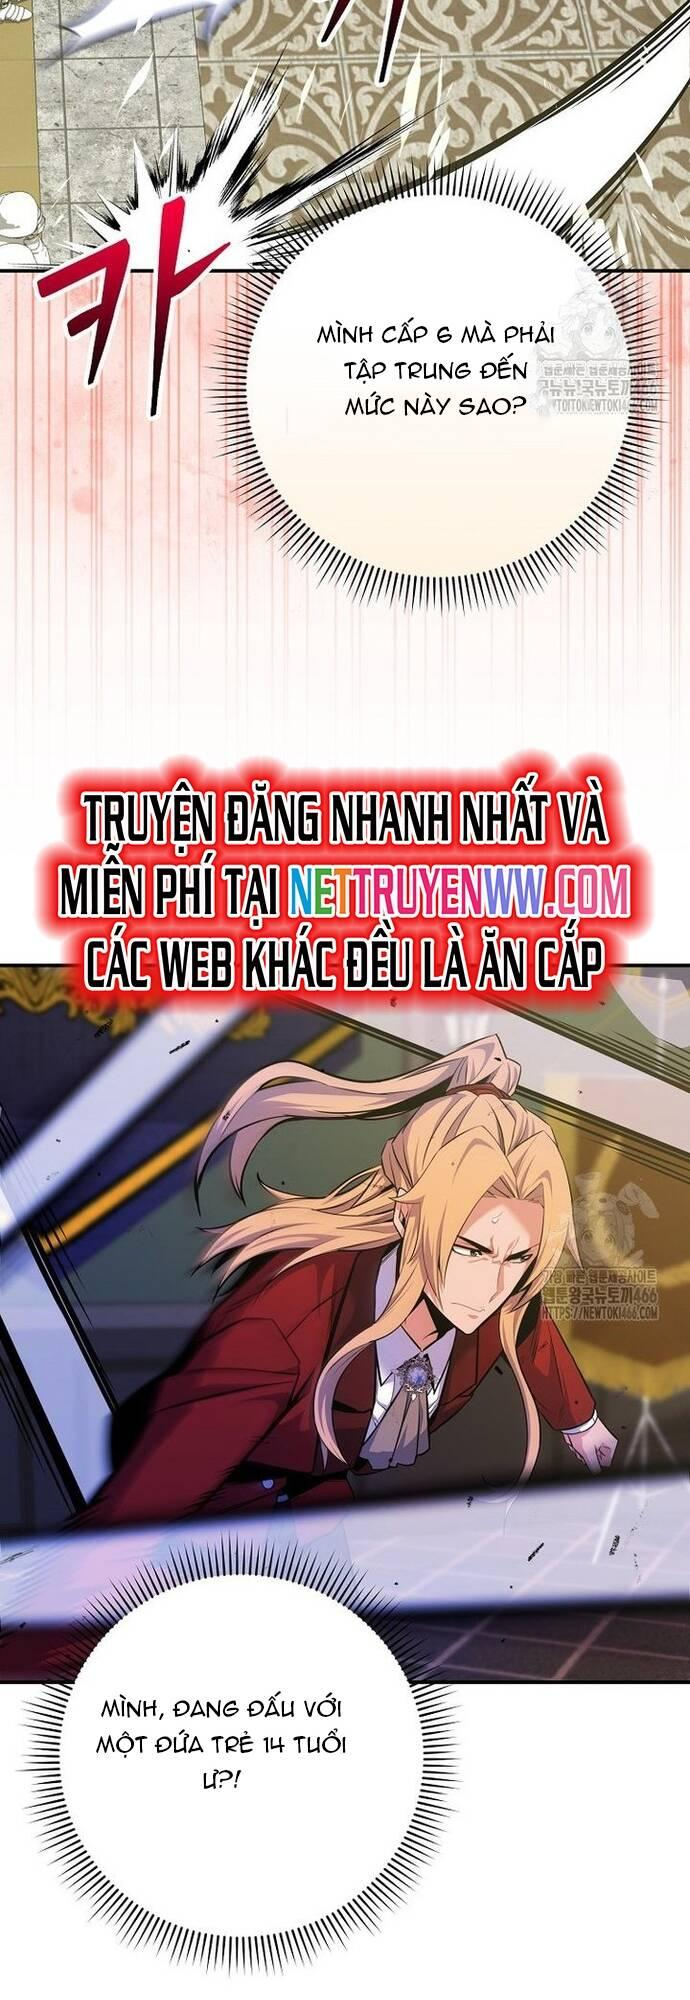quangcao: (37, 763, 650, 1005)
